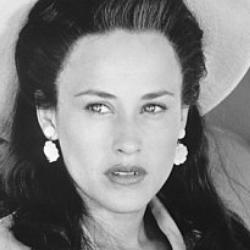face: (3, 1, 233, 233)
